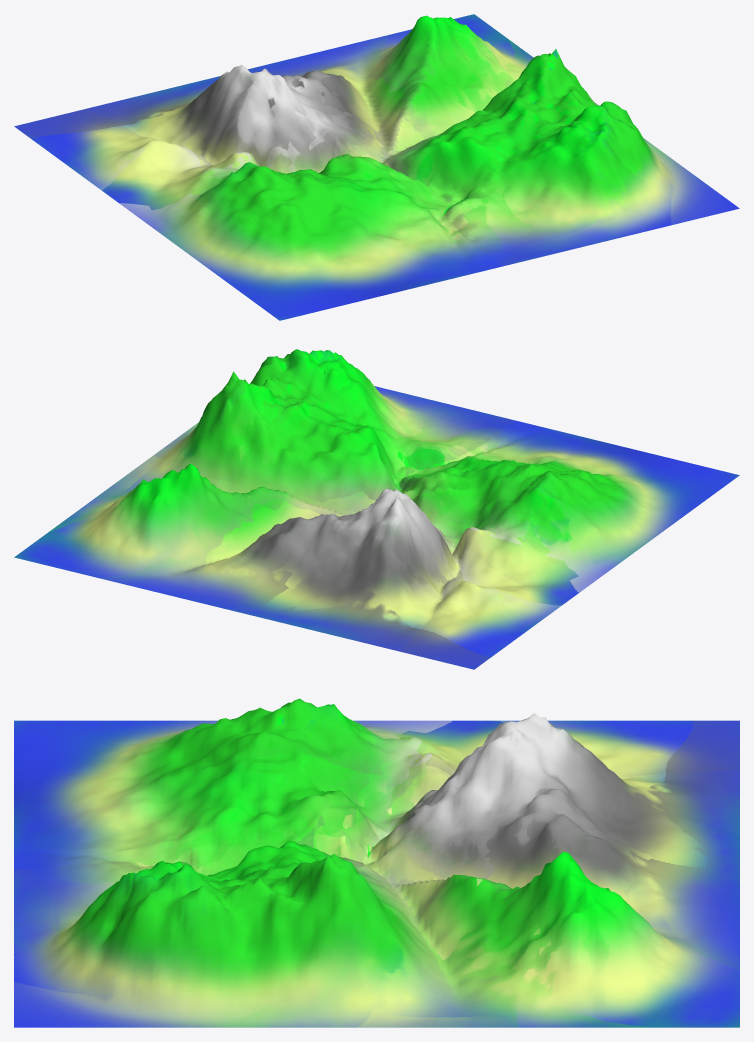
The model's file is terrain4.glb.
3 views of the same model, one above another, from view 1: azimuth 30°, elevation 25°; view 2: azimuth 150°, elevation 25°; view 3: azimuth 270°, elevation 25° (orthographic). The views are drawn at different scales.
Parts seen in each view (by area): view 1: Landscape; view 2: Landscape; view 3: Landscape.
Part boxes in pixels (x1,y1,x2,y2): Landscape: [14, 14, 739, 320]; Landscape: [14, 349, 739, 669]; Landscape: [14, 698, 739, 1027].
Size of the model in its own units: 100 by 19.24 by 100.
1 material, 1 textured.
